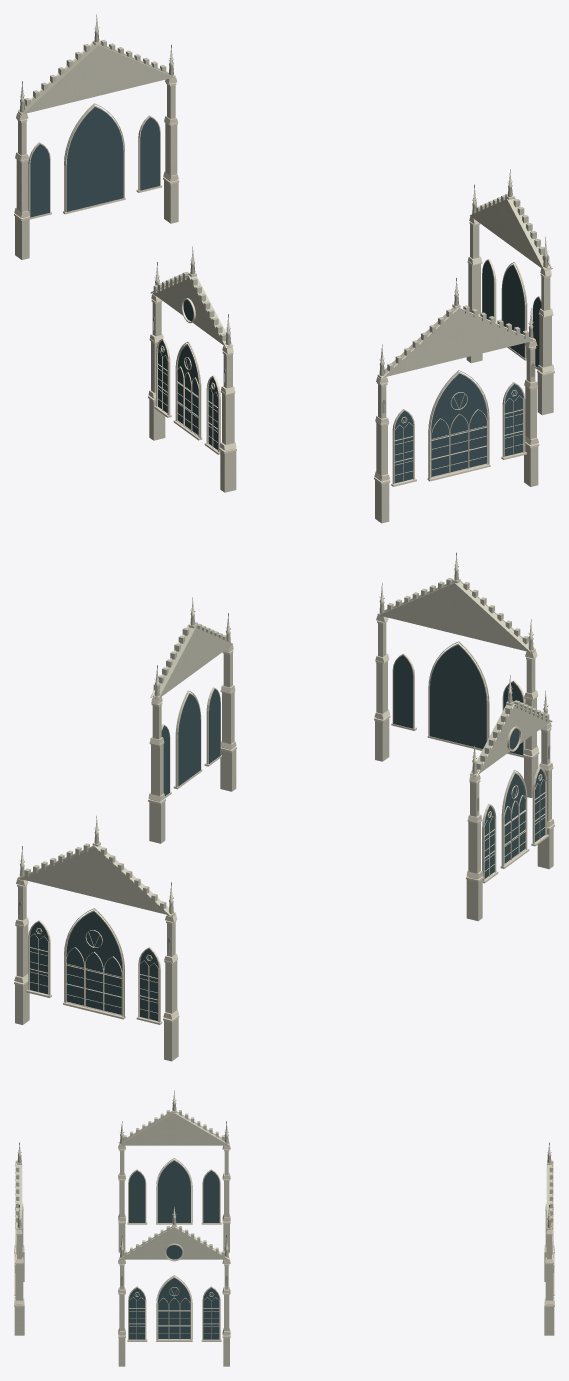
Rendered from KOL_T1_ST_PAULS__05_FacadeDetails.fbx.
3 views of the same model, one above another, from view 1: azimuth 30°, elevation 25°; view 2: azimuth 150°, elevation 25°; view 3: azimuth 270°, elevation 25° (orthographic). The views are drawn at different scales.
Parts seen in each view (by area): view 1: KOL_T1_ST_PAULS__05_FacadeDetails__KOL_T1_B4_Stone_00, KOL_T1_ST_PAULS__05_FacadeDetails__KOL_T1_B4_Glass_00, KOL_T1_ST_PAULS__05_FacadeDetails__KOL_T1_B4_Trim_00; view 2: KOL_T1_ST_PAULS__05_FacadeDetails__KOL_T1_B4_Stone_00, KOL_T1_ST_PAULS__05_FacadeDetails__KOL_T1_B4_Glass_00, KOL_T1_ST_PAULS__05_FacadeDetails__KOL_T1_B4_Trim_00; view 3: KOL_T1_ST_PAULS__05_FacadeDetails__KOL_T1_B4_Stone_00, KOL_T1_ST_PAULS__05_FacadeDetails__KOL_T1_B4_Glass_00, KOL_T1_ST_PAULS__05_FacadeDetails__KOL_T1_B4_Trim_00.
Part boxes in pixels (bbox=[...]): KOL_T1_ST_PAULS__05_FacadeDetails__KOL_T1_B4_Stone_00: bbox=[15, 18, 553, 523]; KOL_T1_ST_PAULS__05_FacadeDetails__KOL_T1_B4_Glass_00: bbox=[30, 107, 541, 483]; KOL_T1_ST_PAULS__05_FacadeDetails__KOL_T1_B4_Trim_00: bbox=[14, 26, 554, 486]; KOL_T1_ST_PAULS__05_FacadeDetails__KOL_T1_B4_Stone_00: bbox=[15, 555, 553, 1061]; KOL_T1_ST_PAULS__05_FacadeDetails__KOL_T1_B4_Glass_00: bbox=[30, 645, 544, 1021]; KOL_T1_ST_PAULS__05_FacadeDetails__KOL_T1_B4_Trim_00: bbox=[14, 564, 554, 1024]; KOL_T1_ST_PAULS__05_FacadeDetails__KOL_T1_B4_Stone_00: bbox=[14, 1092, 554, 1366]; KOL_T1_ST_PAULS__05_FacadeDetails__KOL_T1_B4_Glass_00: bbox=[129, 1160, 219, 1339]; KOL_T1_ST_PAULS__05_FacadeDetails__KOL_T1_B4_Trim_00: bbox=[14, 1100, 554, 1341].
Size of the model in its own units: 102 by 66.1 by 197.
Materials: 5 (1 with a texture image).
